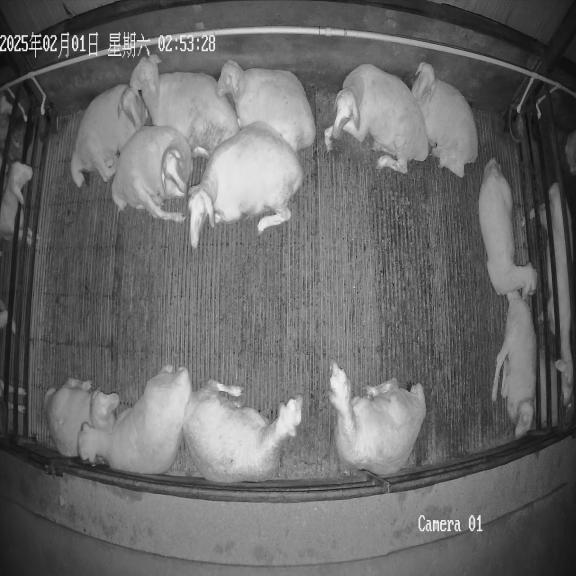lying: (188, 123, 303, 248), (182, 380, 303, 483), (77, 366, 192, 474), (325, 64, 428, 174), (130, 55, 239, 157), (328, 363, 426, 475), (217, 60, 316, 151), (478, 158, 537, 300), (71, 84, 147, 187), (111, 126, 192, 222), (411, 62, 478, 177), (491, 292, 536, 438), (44, 378, 120, 456)
